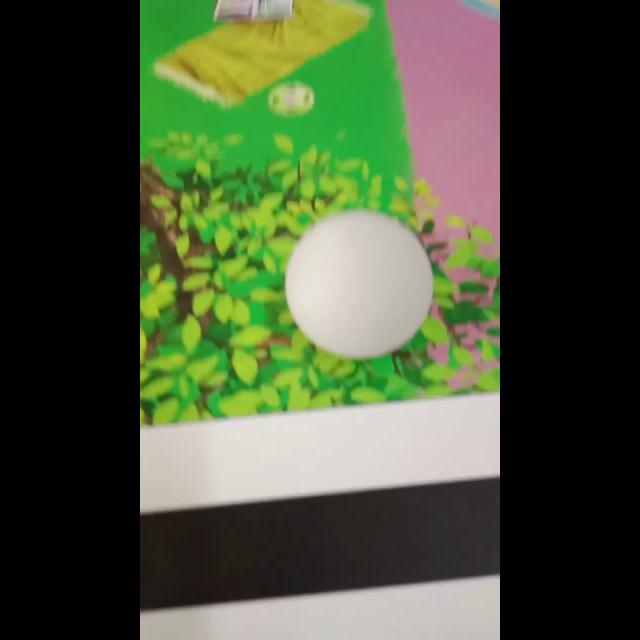white ball: (284, 208, 434, 360)
